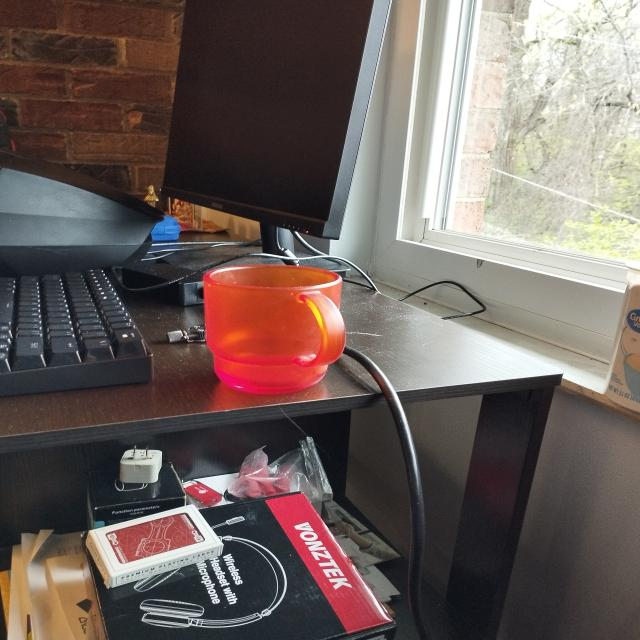Cup: (180, 261, 370, 400)
